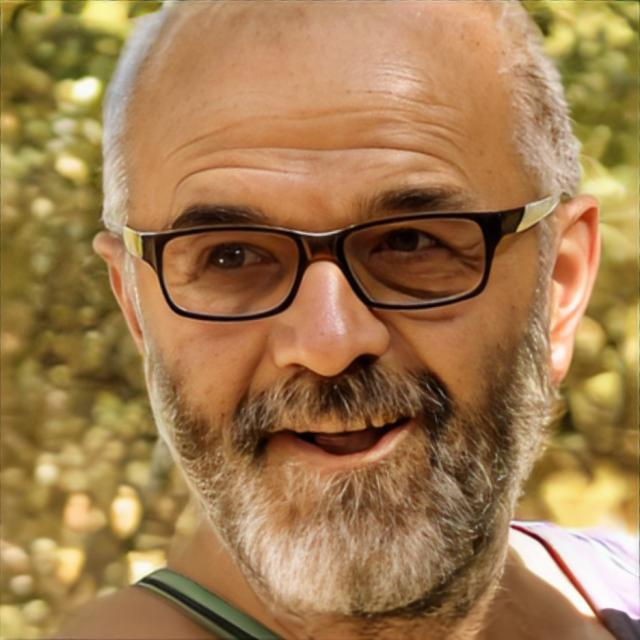happy: (134, 0, 542, 617)
